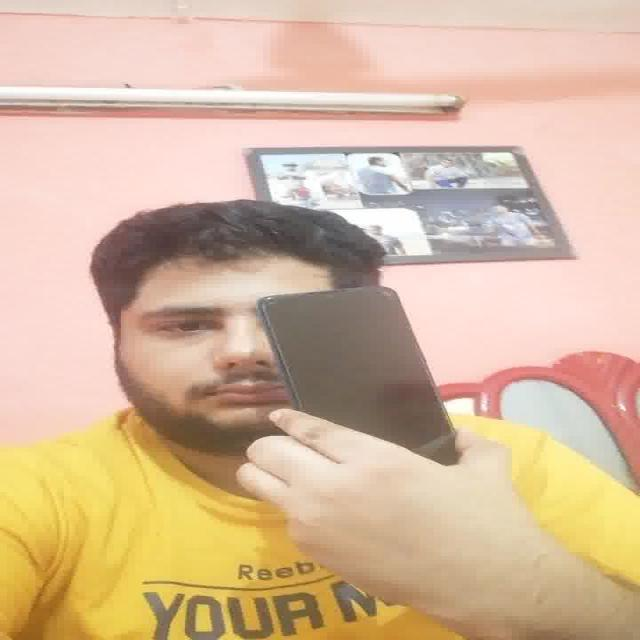Phone: (256, 284, 462, 470)
